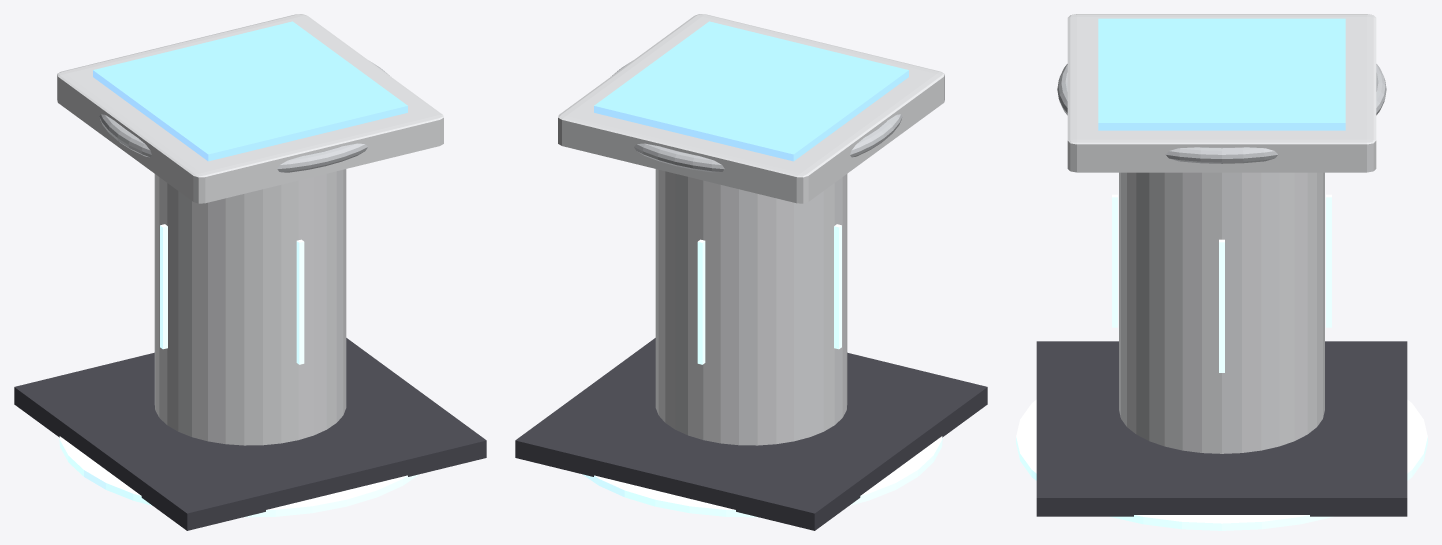
The model's file is citadel_vote_pedestal.glb.
The picture shows the model from 3 angles, left to right: view 1: azimuth 30°, elevation 25°; view 2: azimuth 150°, elevation 25°; view 3: azimuth 270°, elevation 25°; orthographic projection. The views are drawn at different scales.
Parts seen in each view (by area): view 1: VotePed_Column, VotePed_Base, VotePed_ButtonFace, VotePed_Top, VotePed_GlowRing, VotePed_AccentRing, VotePed_Strip_3, VotePed_Strip_2; view 2: VotePed_Column, VotePed_Base, VotePed_ButtonFace, VotePed_Top, VotePed_GlowRing, VotePed_AccentRing, VotePed_Strip_1, VotePed_Strip_2; view 3: VotePed_Column, VotePed_Base, VotePed_ButtonFace, VotePed_Top, VotePed_GlowRing, VotePed_AccentRing, VotePed_Strip_0, VotePed_Strip_1, VotePed_Strip_3.
Boxes of the visible parts, x1,y1,x2,y2 form: VotePed_Column: (154, 169, 346, 445); VotePed_Base: (14, 338, 486, 530); VotePed_ButtonFace: (93, 21, 407, 161); VotePed_Top: (57, 14, 443, 203); VotePed_GlowRing: (59, 387, 419, 517); VotePed_AccentRing: (99, 61, 389, 172); VotePed_Strip_3: (296, 239, 304, 364); VotePed_Strip_2: (160, 224, 167, 349); VotePed_Column: (655, 169, 847, 445); VotePed_Base: (515, 338, 987, 530); VotePed_ButtonFace: (594, 21, 908, 161); VotePed_Top: (558, 14, 944, 203); VotePed_GlowRing: (582, 387, 942, 517); VotePed_AccentRing: (612, 61, 902, 172); VotePed_Strip_1: (697, 239, 705, 364); VotePed_Strip_2: (834, 224, 841, 349); VotePed_Column: (1119, 172, 1324, 453); VotePed_Base: (1036, 341, 1407, 516); VotePed_ButtonFace: (1098, 18, 1345, 130); VotePed_Top: (1067, 14, 1376, 172); VotePed_GlowRing: (1016, 399, 1427, 530); VotePed_AccentRing: (1057, 64, 1386, 163); VotePed_Strip_0: (1219, 239, 1224, 372); VotePed_Strip_1: (1326, 194, 1331, 327); VotePed_Strip_3: (1112, 194, 1117, 327).
Size of the model in its own units: 1 by 1 by 1.
